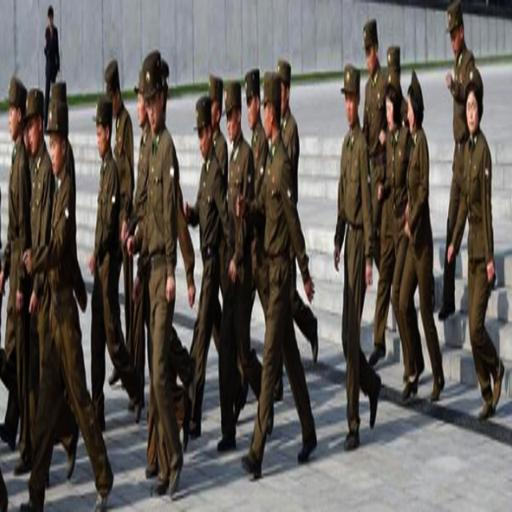north army: (7, 29, 512, 459)
